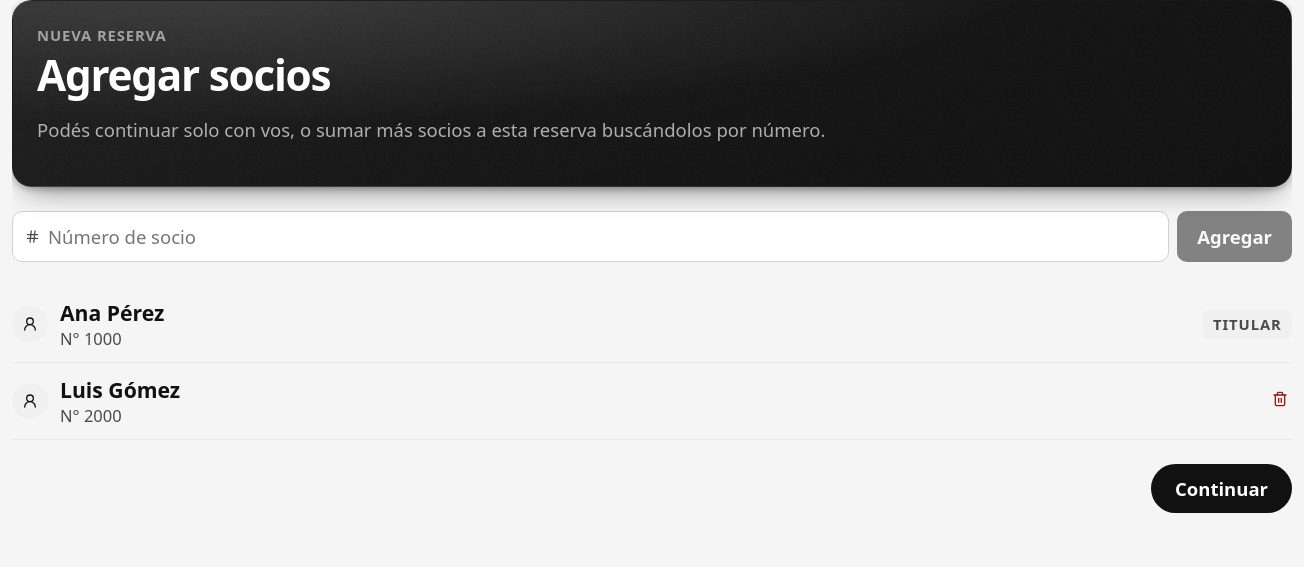
AgregarSociosStep › no permite agregar dos veces al mismo socio ya agregado
Type "2000" into the field with placeholder "Número de socio".
click(602, 237); type("2000")  # box left=48, top=212, right=1156, bottom=261
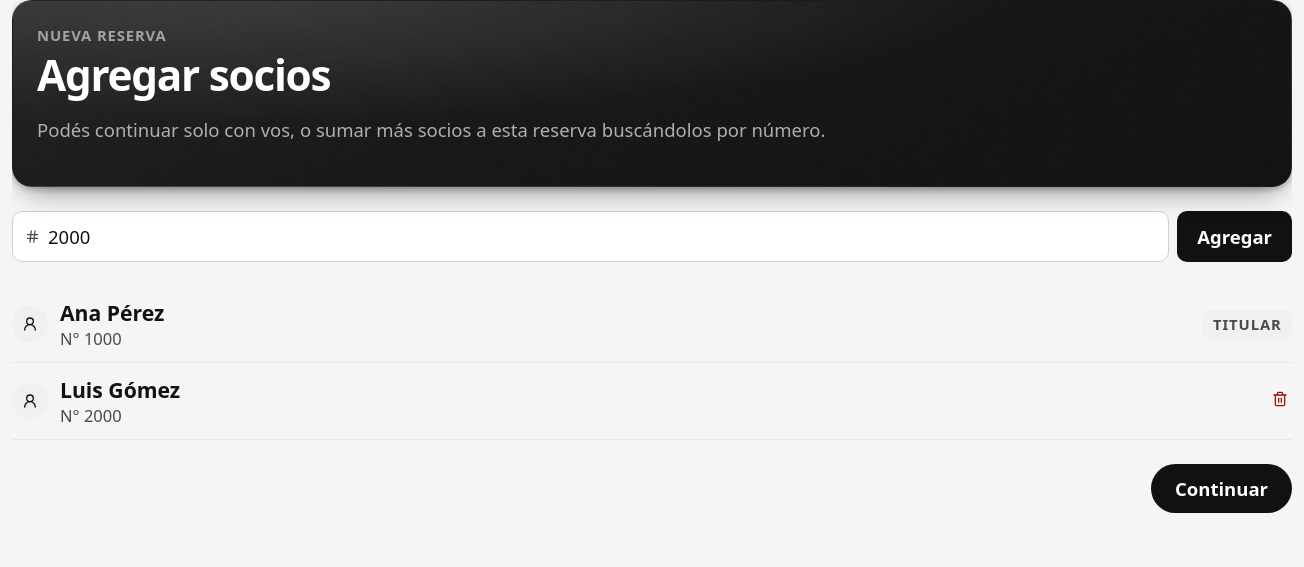
Click the button "Agregar".
click(1235, 237)  # box left=1177, top=211, right=1292, bottom=262
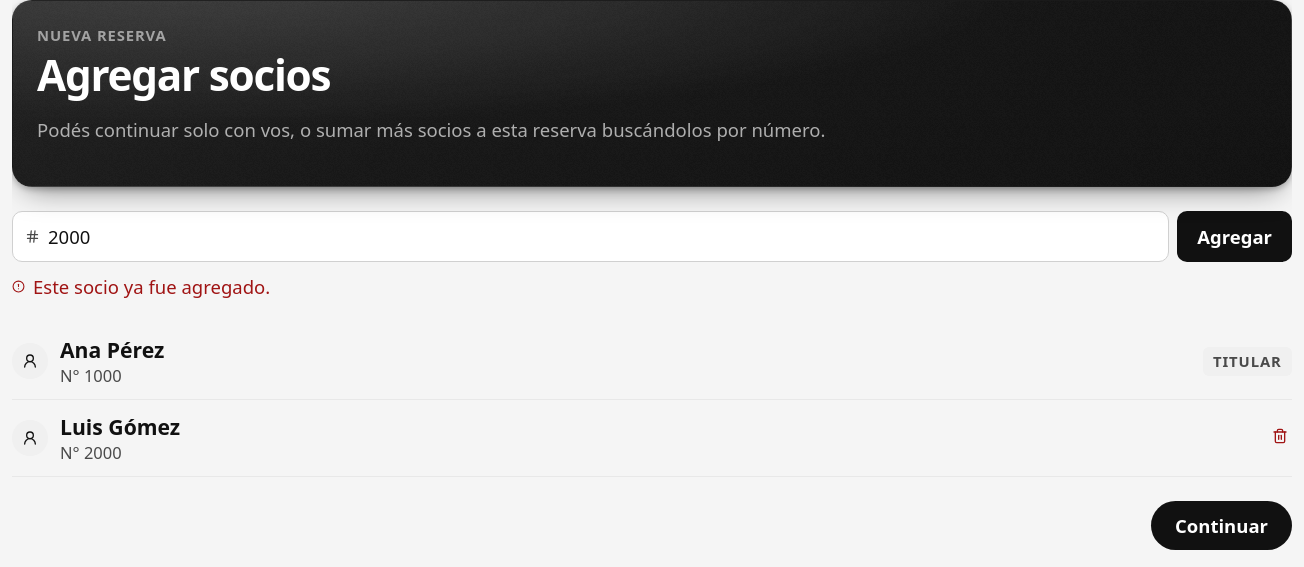
Expected: the text "Este socio ya fue agregado." is shown, left=12, top=274, right=270, bottom=299
